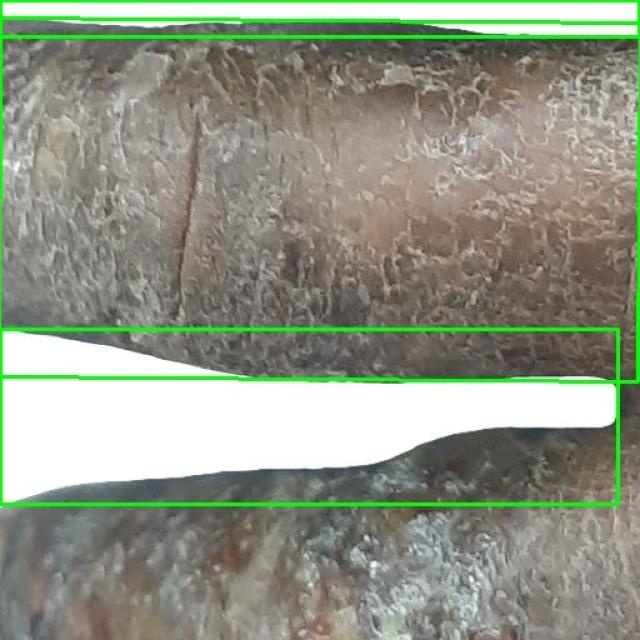Eczema: (0, 19, 640, 382), (0, 329, 618, 504), (0, 0, 639, 36)
